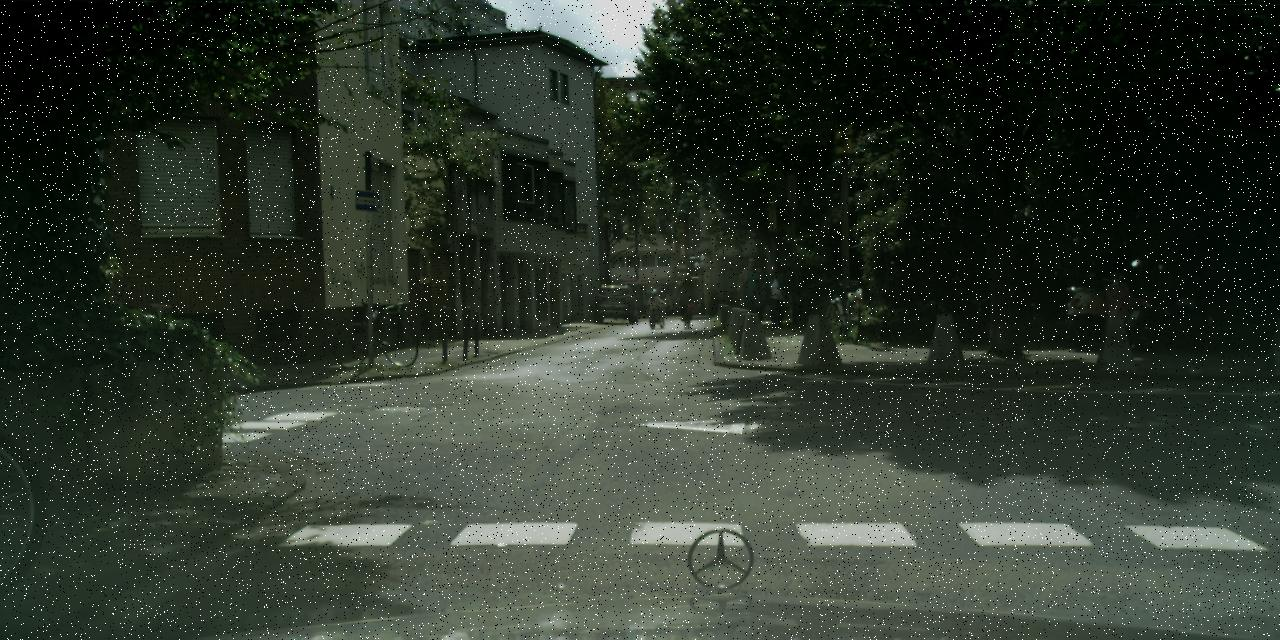ped: (738, 257, 766, 326), (760, 264, 786, 328), (677, 274, 695, 320), (648, 289, 661, 321)
